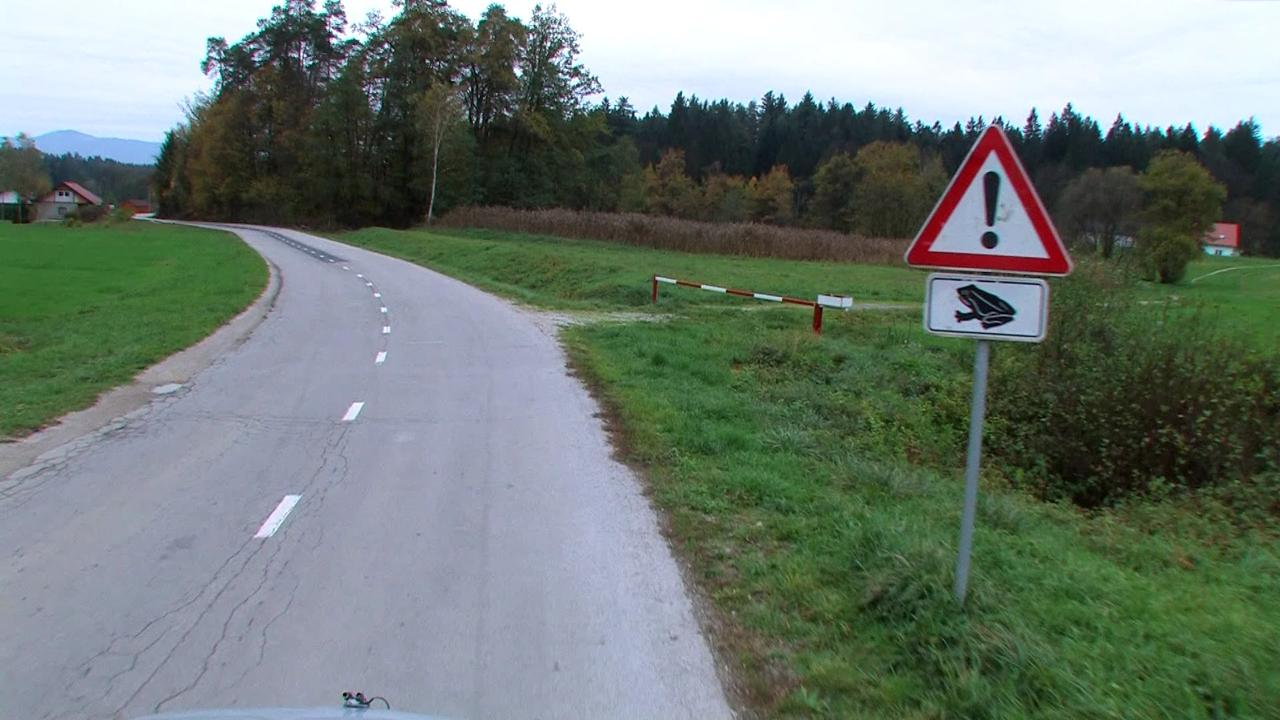Rectangle: (922, 272, 1048, 342)
Triangle: (904, 125, 1076, 277)
